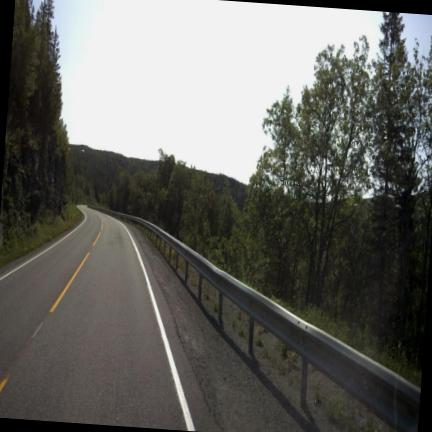Road: (0, 207, 199, 429)
